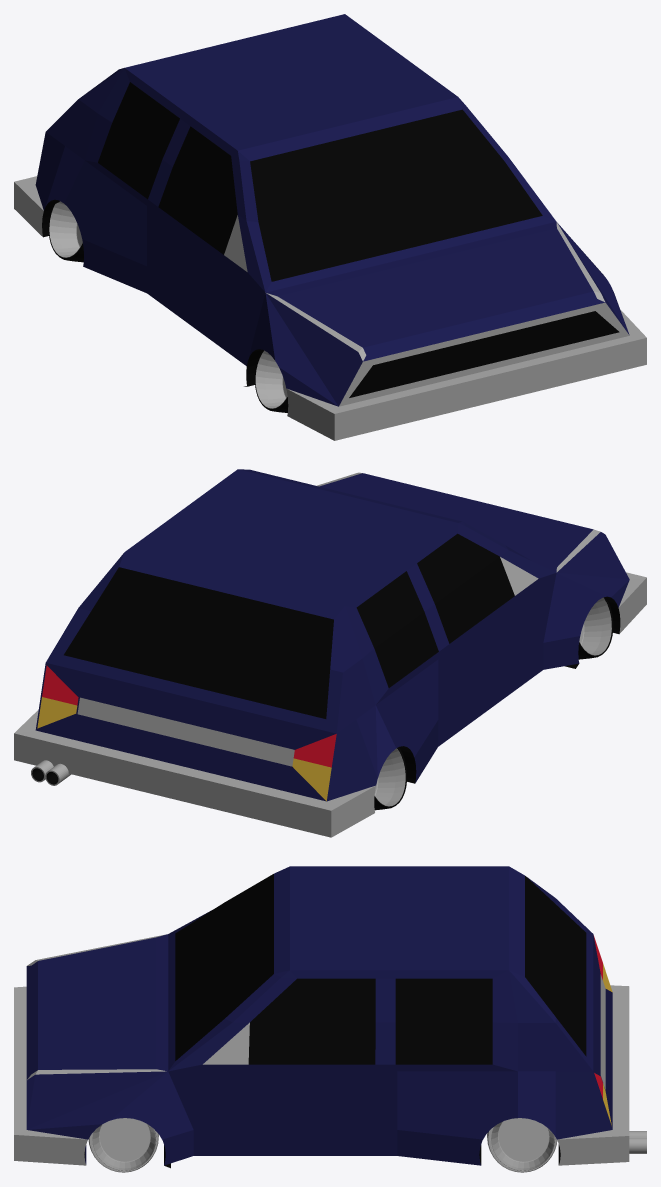
Rendered from Golf Citi rox.fbx.
3 renders of one model, top to bottom at view 1: azimuth 30°, elevation 25°; view 2: azimuth 150°, elevation 25°; view 3: azimuth 270°, elevation 25°, orthographic. The views are drawn at different scales.
Parts seen in each view (by area): view 1: Cube, Cylinder.002, Cylinder.003; view 2: Cube, Cylinder.003, Cylinder.002, Cylinder.004; view 3: Cube, Cylinder.003, Cylinder.002.
Boxes of the visible parts, bbox=[...] form: Cube: bbox=[14, 14, 646, 440]; Cylinder.002: bbox=[48, 201, 83, 262]; Cylinder.003: bbox=[255, 350, 288, 412]; Cube: bbox=[14, 469, 646, 837]; Cylinder.003: bbox=[578, 597, 613, 659]; Cylinder.002: bbox=[374, 747, 406, 810]; Cylinder.004: bbox=[31, 760, 71, 785]; Cube: bbox=[14, 866, 629, 1168]; Cylinder.003: bbox=[88, 1118, 158, 1172]; Cylinder.002: bbox=[487, 1118, 557, 1172].
Size of the model in its own units: 1215 by 657 by 2040.
